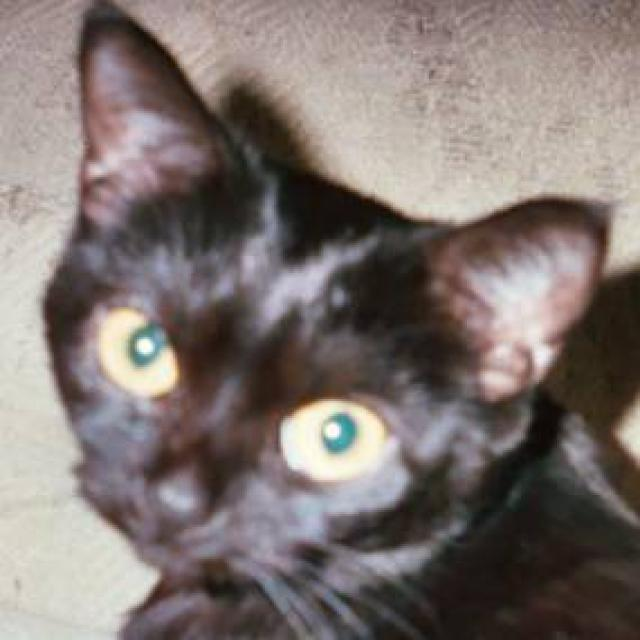Bombay: (41, 2, 615, 601)
